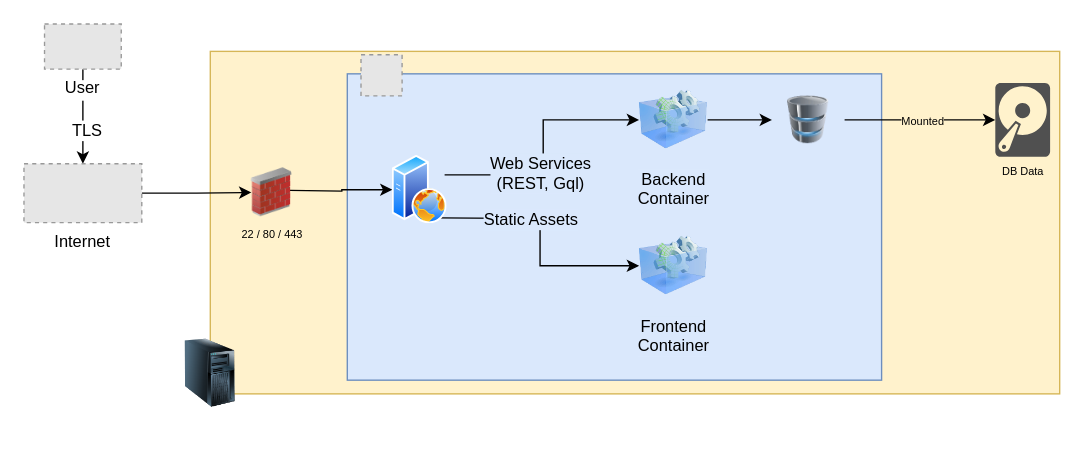
The diagram is 1084 pixels wide and 455 high, and some of its shapes have lost their labels. Grey dashed boxes stand in for pictures. Each missing label, with the box of its shape:
DB Container: (771, 95, 844, 143)
Trafeik Container (80 / 443): (392, 155, 447, 223)
VPS Instance: (182, 338, 237, 407)
